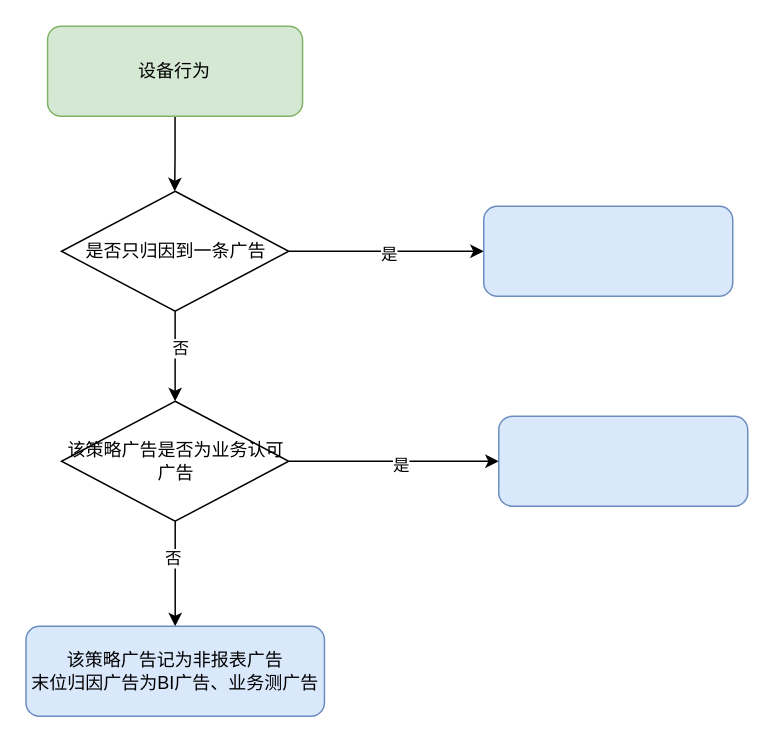
This 776x743 diagram has some shape labels left out. The shapes that lost their labels are listed below. From the top down, each one's centre as x and y in pixels, then its label:
At (607,250): "BI广告/业务测广告都为该广告".
At (622,460): "该策略广告为业务测广告 末位归因广告为BI广告".
